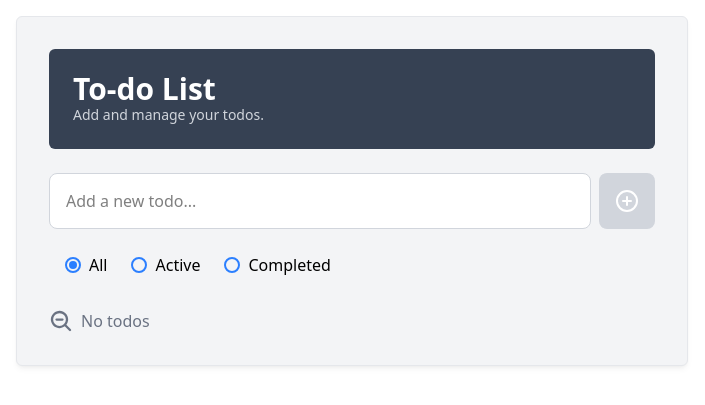
Test: Todo App › should edit a todo item when the edit button is clicked
Type "Buy a pillow" into the field with test id "input-field" at (320, 201), box [49,173,591,229]
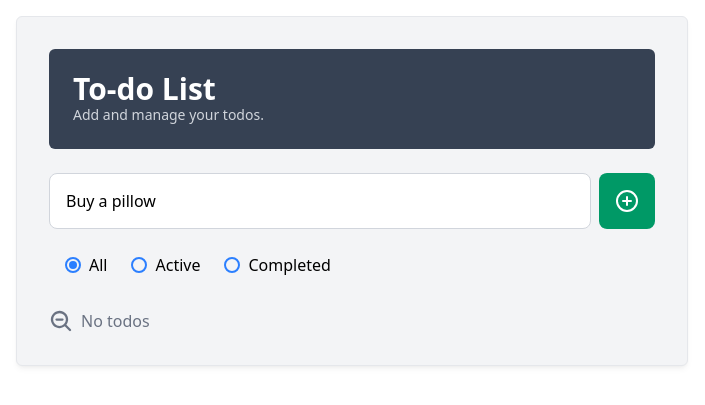
Click the button with test id "submit-button" at (627, 201), box [599,173,655,229]
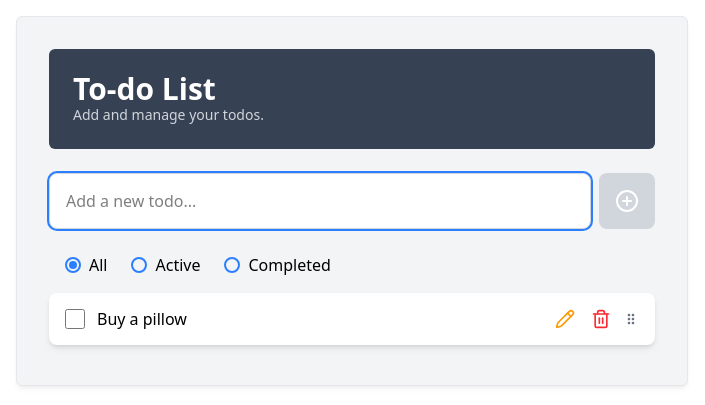
Click the button with test id "edit-button" at (565, 319), box [551,305,579,333]
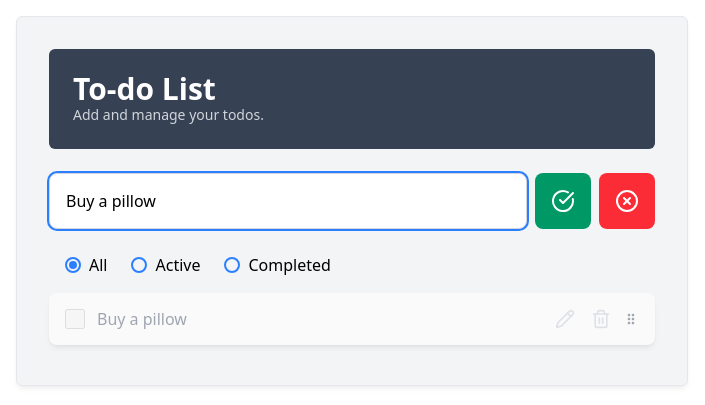
Replace the text in the field with test id "input-field" with "Pick up the kids" at (288, 201), box [49,173,527,229]
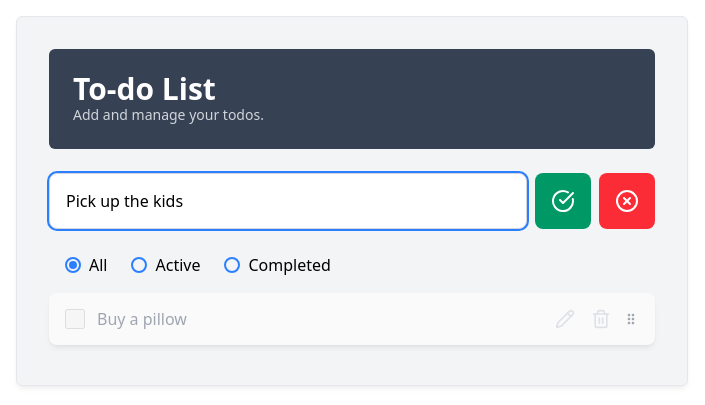
Click the button with test id "submit-button" at (563, 201), box [535,173,591,229]
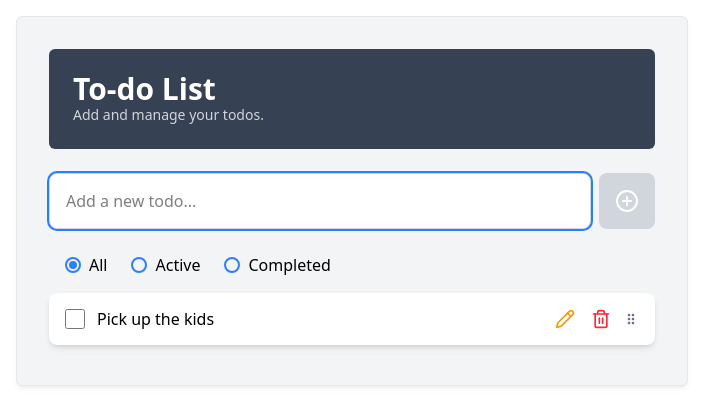
Expected: the text "Pick up the kids" is shown, [97,308,214,330]
